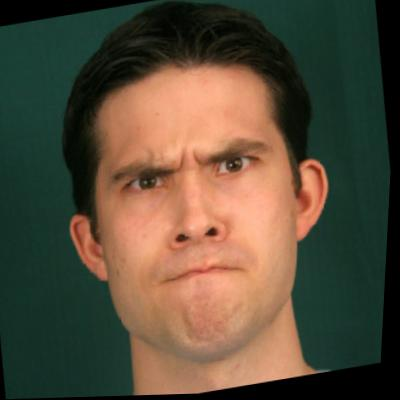angry: (48, 31, 329, 370)
